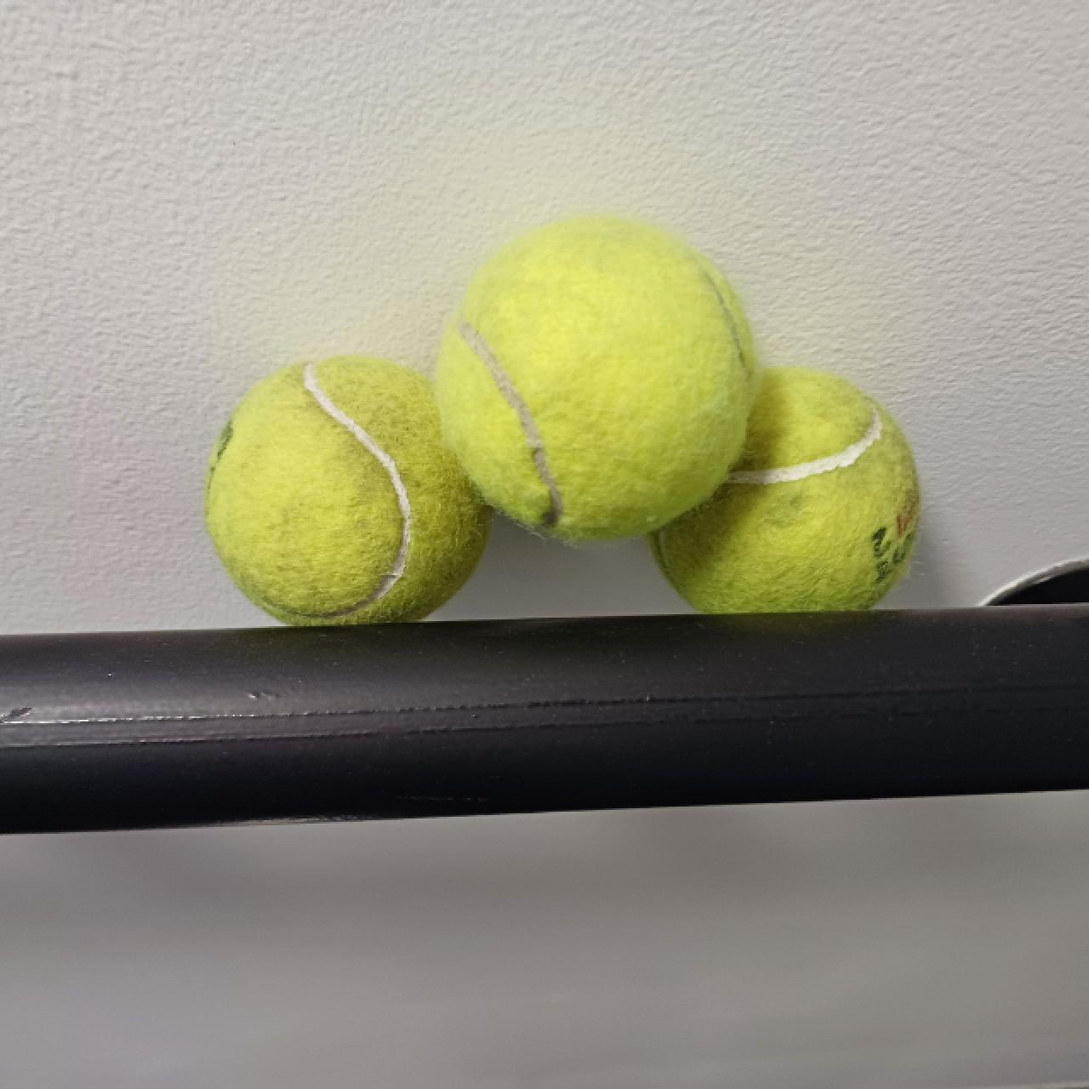tennis-ball: (436, 212, 759, 543), (204, 353, 490, 628), (646, 365, 923, 622)
